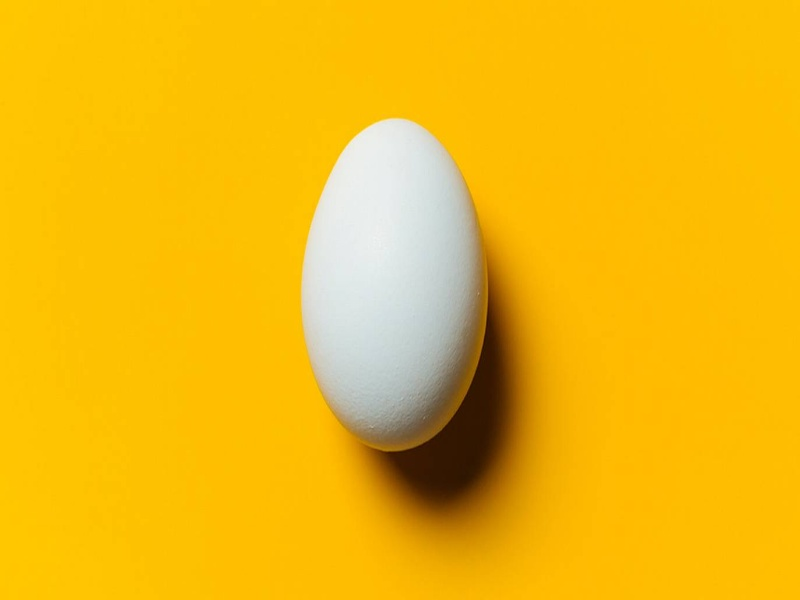Huevo: (301, 118, 488, 452)
